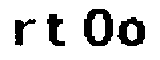0: (80, 5, 116, 53)
o: (117, 17, 146, 49)
r: (10, 15, 39, 48)
t: (45, 11, 69, 52)
